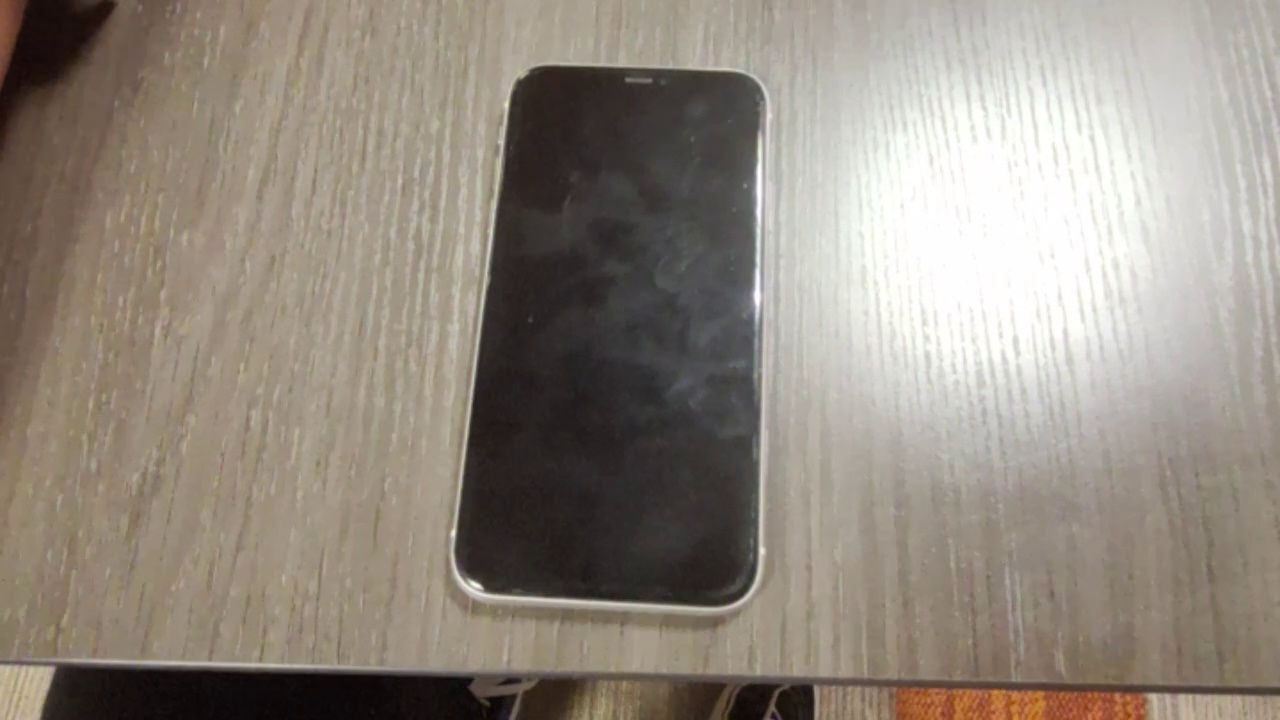celular: (447, 66, 769, 617)
